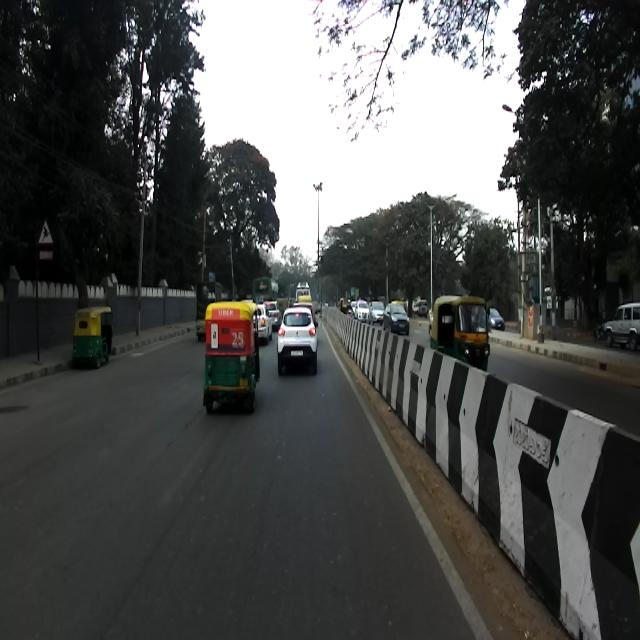auto ahead at: (203, 301, 259, 413)
car ahead at: (274, 303, 320, 372)
sign board ahead at: (34, 221, 53, 258)
